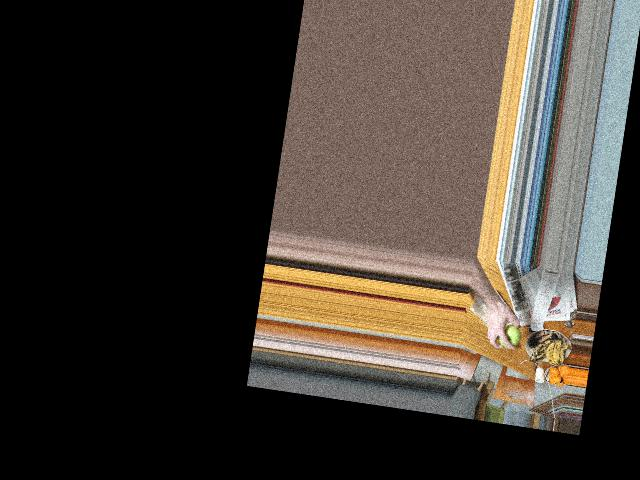apple: (497, 322, 521, 350)
